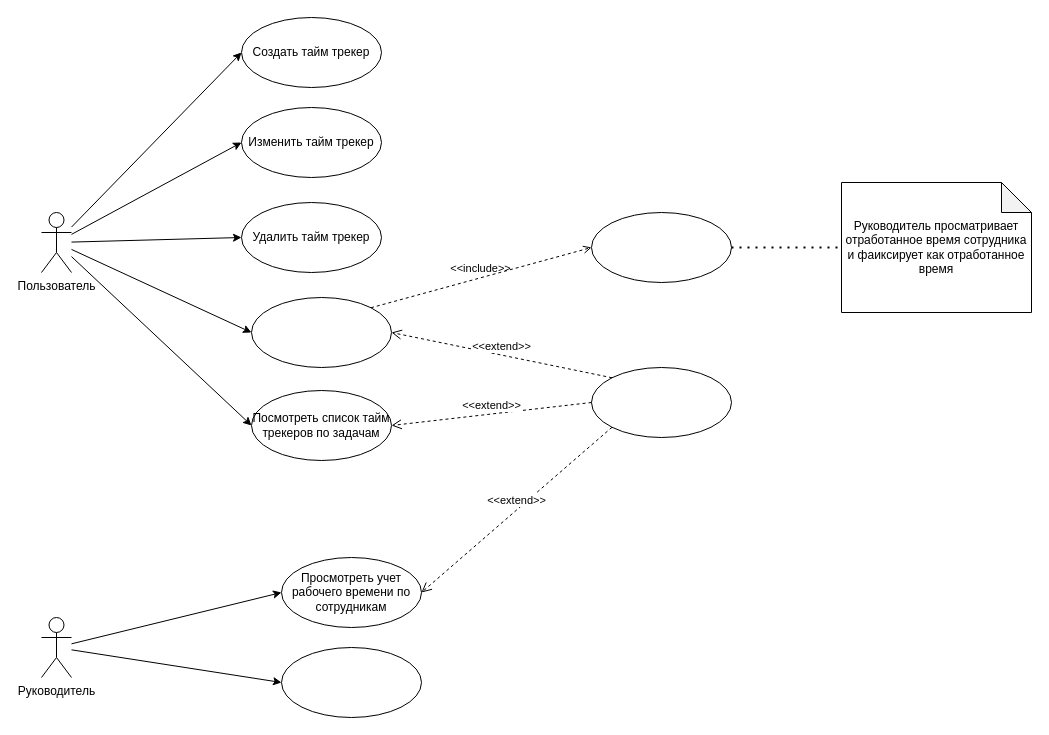
The diagram is 1049 pixels wide and 735 high, and some of its shapes have lost their labels. Here are the shapes that lost their labels. From the top down, the centre of each, then its label:
At point (661, 247): "Отправить отчёт руководителю".
At point (321, 332): "Построить отчет тайм трекеров по задачам".
At point (661, 402): "Найти список трекеров по фильтрам".
At point (351, 682): "Согласовать отработанное время сотрудника".
